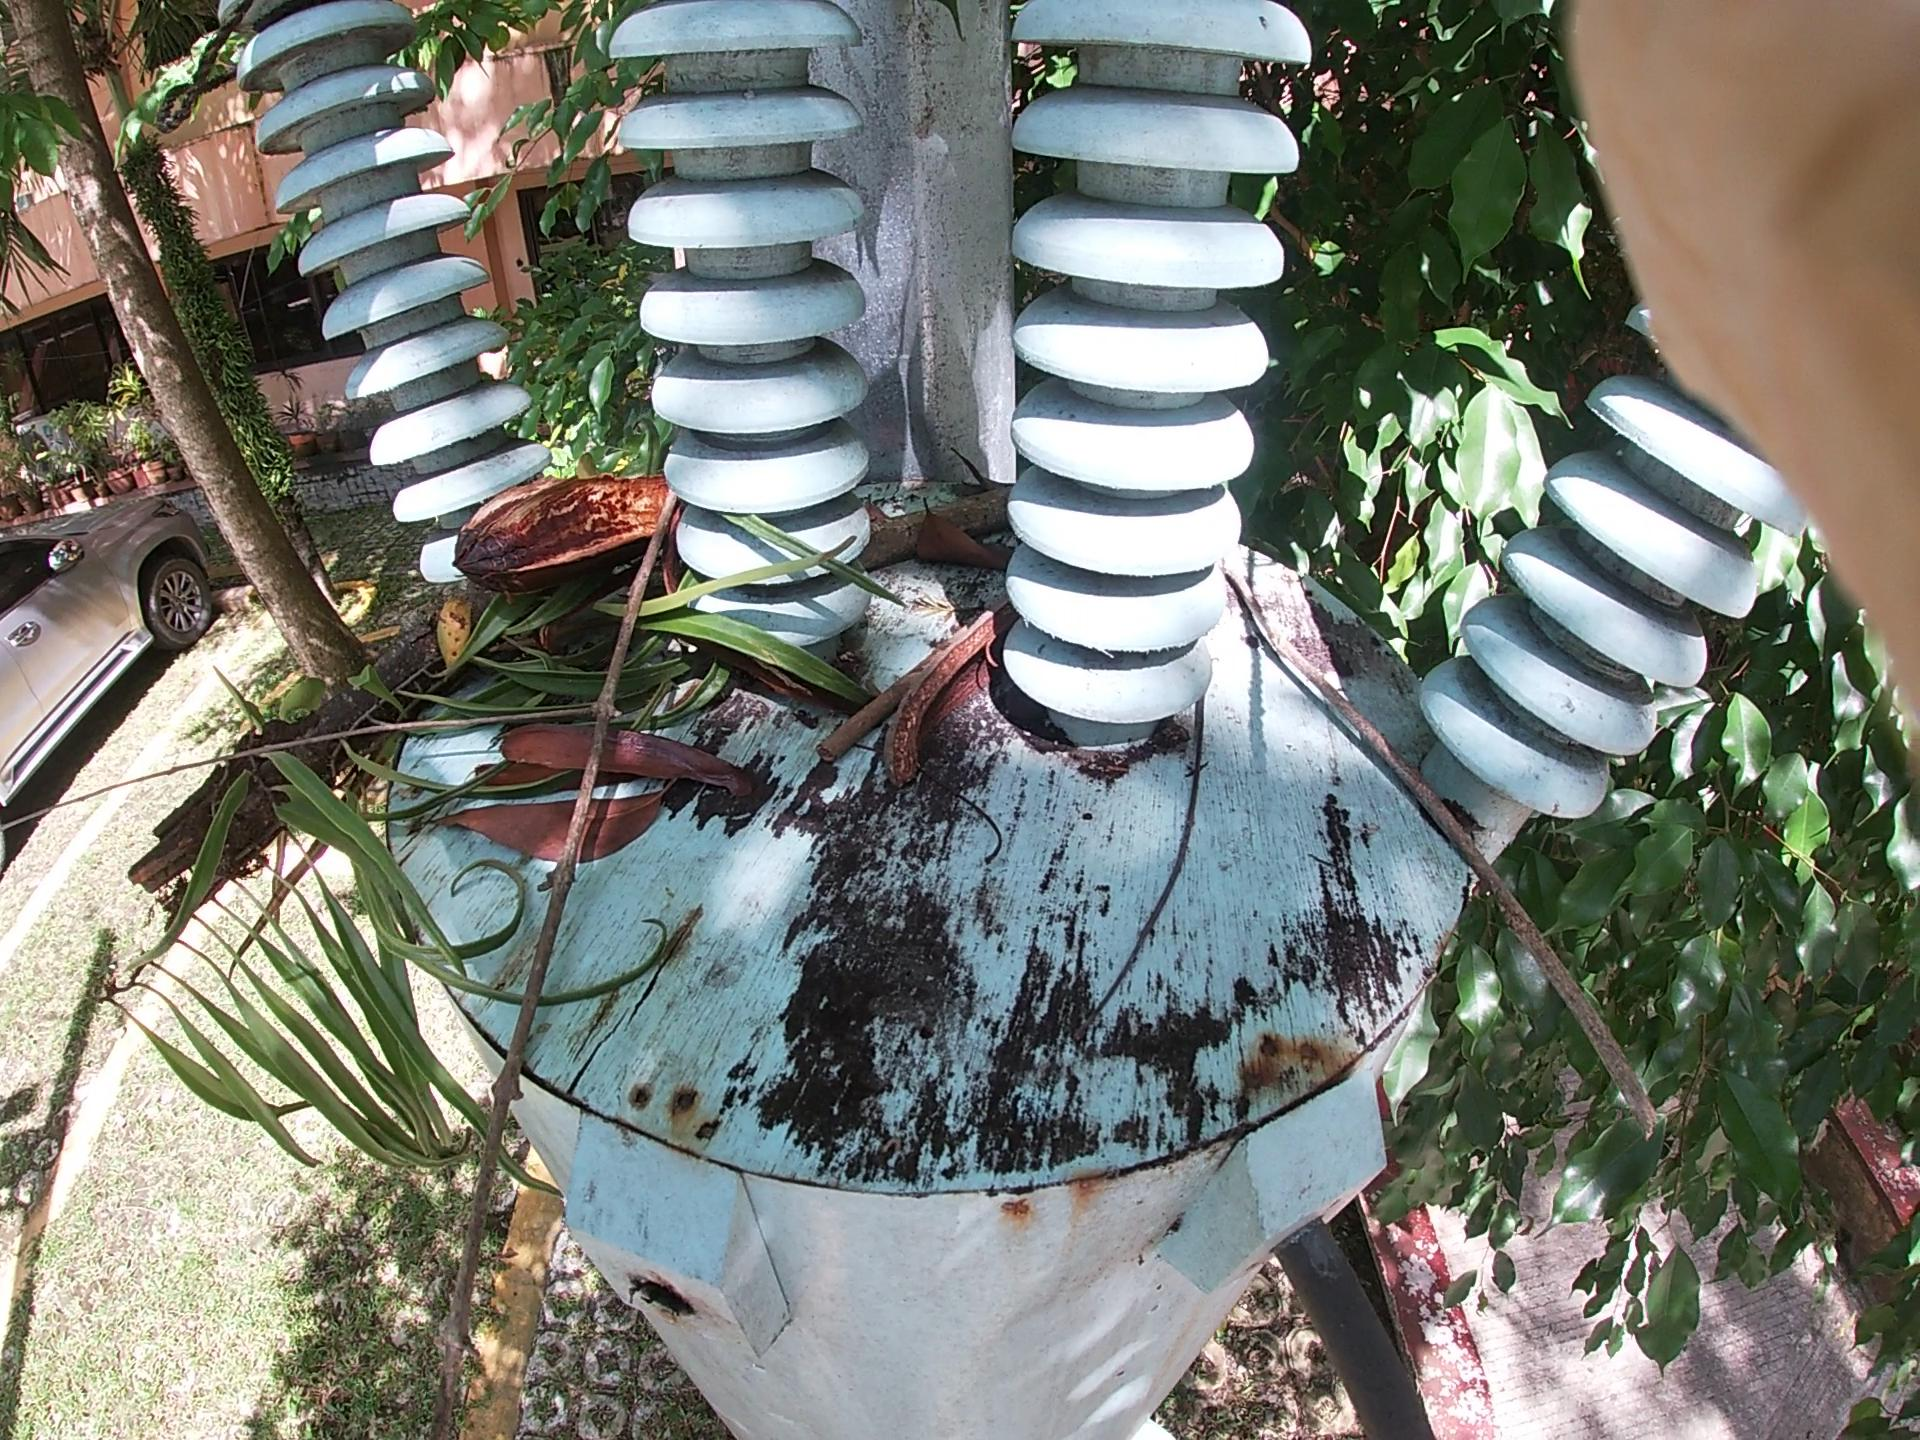branch with leaves: (163, 295, 844, 957)
leaf: (463, 644, 714, 920), (906, 460, 1034, 655)
mahogany fruit: (785, 555, 1117, 811), (452, 442, 739, 682), (910, 579, 1045, 784)
tree branch: (1223, 579, 1640, 1141), (819, 322, 1303, 787), (429, 493, 670, 1366), (434, 507, 646, 1357), (1076, 620, 1219, 1035)
